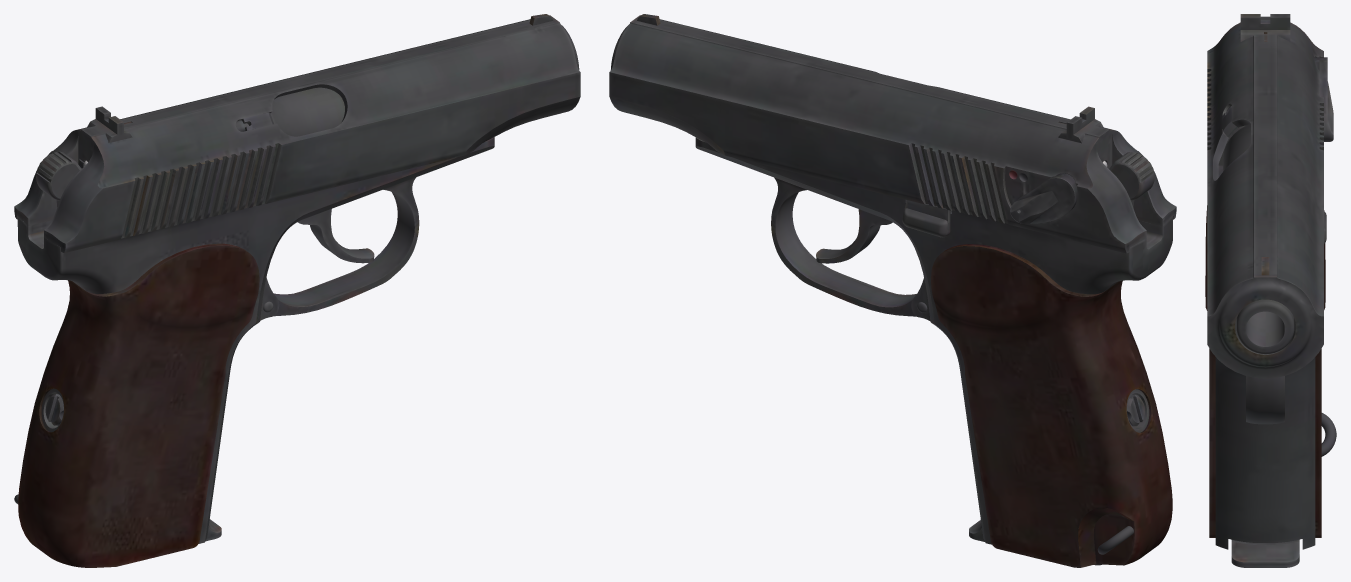
Rendered from makarov.glb.
3 views of the same model, side by side, from view 1: azimuth 30°, elevation 25°; view 2: azimuth 150°, elevation 25°; view 3: azimuth 270°, elevation 25° (orthographic). The views are drawn at different scales.
Visible parts, largest first — view 1: makarov; view 2: makarov; view 3: makarov.
Part boxes in pixels (box(x1,y1,x2,y2)): makarov: box(14, 14, 580, 567); makarov: box(609, 14, 1176, 567); makarov: box(1205, 14, 1336, 567).
Size of the model in its own units: 0.1615 by 0.1287 by 0.0303.
1 material, 1 textured.
